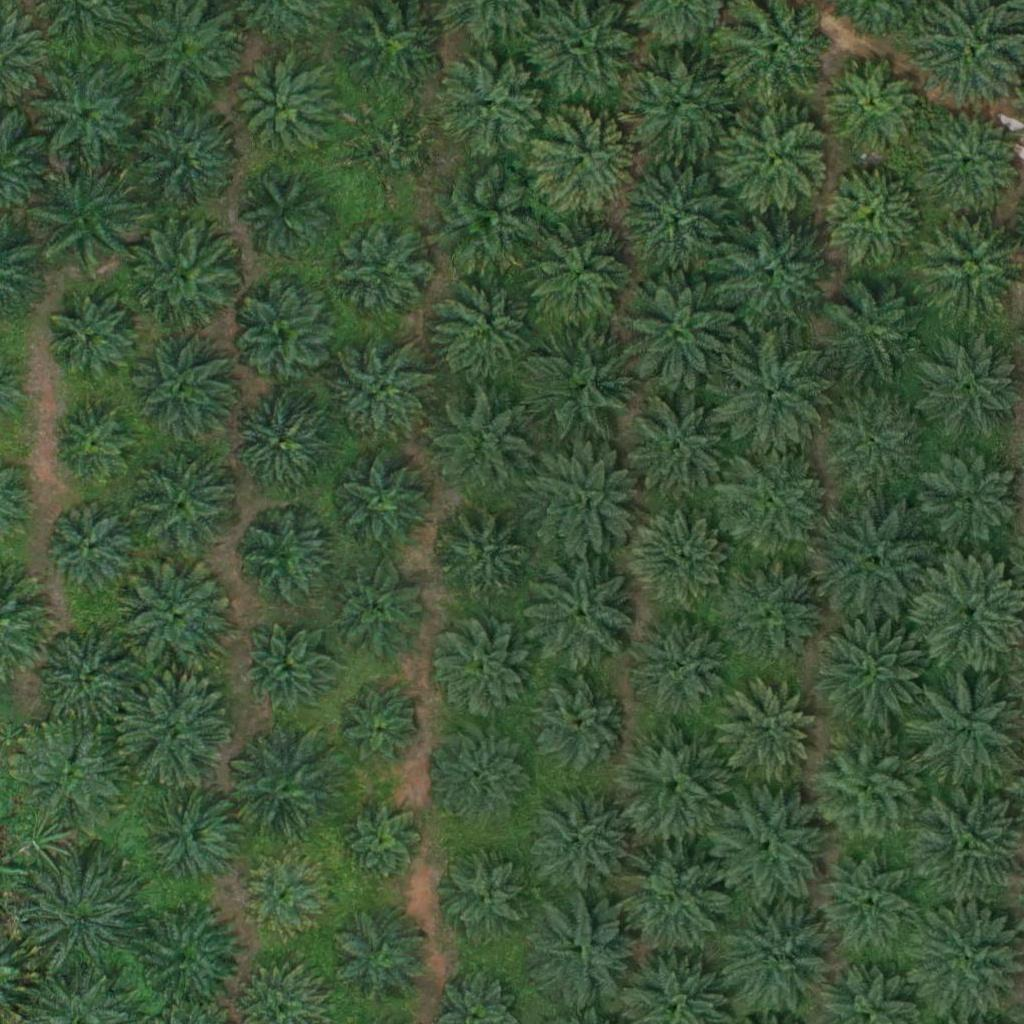Kelapa_Sawit: (718, 102, 831, 216), (819, 274, 932, 388), (130, 899, 243, 1013), (808, 730, 921, 844), (29, 165, 142, 278), (431, 169, 544, 282), (619, 51, 732, 164), (816, 387, 929, 500), (821, 506, 934, 619), (814, 618, 927, 731), (716, 218, 829, 331), (718, 340, 831, 453), (523, 442, 636, 555), (523, 558, 636, 671), (521, 670, 634, 783), (127, 218, 240, 331), (125, 330, 238, 443), (131, 445, 244, 558), (522, 783, 635, 896), (528, 896, 641, 1009), (115, 671, 227, 785), (32, 621, 144, 735), (29, 862, 141, 976), (29, 56, 141, 169), (132, 106, 244, 219), (433, 49, 545, 162), (529, 105, 641, 218), (626, 158, 738, 271), (911, 107, 1023, 220), (719, 446, 831, 559), (717, 559, 829, 672), (624, 277, 736, 390), (621, 388, 733, 501), (524, 221, 636, 334), (527, 336, 639, 449), (329, 336, 441, 449), (124, 561, 236, 674), (231, 736, 343, 849), (614, 729, 726, 842), (617, 845, 729, 958), (716, 789, 828, 902), (722, 901, 834, 1014), (236, 67, 336, 168), (235, 164, 335, 265), (720, 678, 820, 779), (628, 510, 728, 611), (633, 616, 733, 717), (431, 280, 531, 381), (428, 393, 528, 494), (430, 506, 530, 607), (338, 219, 438, 320), (331, 453, 431, 554), (233, 283, 333, 384), (228, 388, 328, 489), (234, 502, 334, 603), (41, 499, 141, 600), (143, 786, 243, 887), (333, 902, 433, 1003), (434, 852, 534, 953), (828, 55, 928, 155), (824, 167, 924, 267), (923, 452, 1023, 552), (431, 622, 531, 722), (431, 726, 531, 826), (329, 558, 429, 658), (21, 723, 121, 823), (819, 857, 919, 957), (48, 296, 136, 384), (51, 402, 139, 490), (240, 855, 328, 943), (341, 795, 429, 883), (354, 111, 441, 200), (242, 624, 329, 712), (341, 690, 416, 766)
